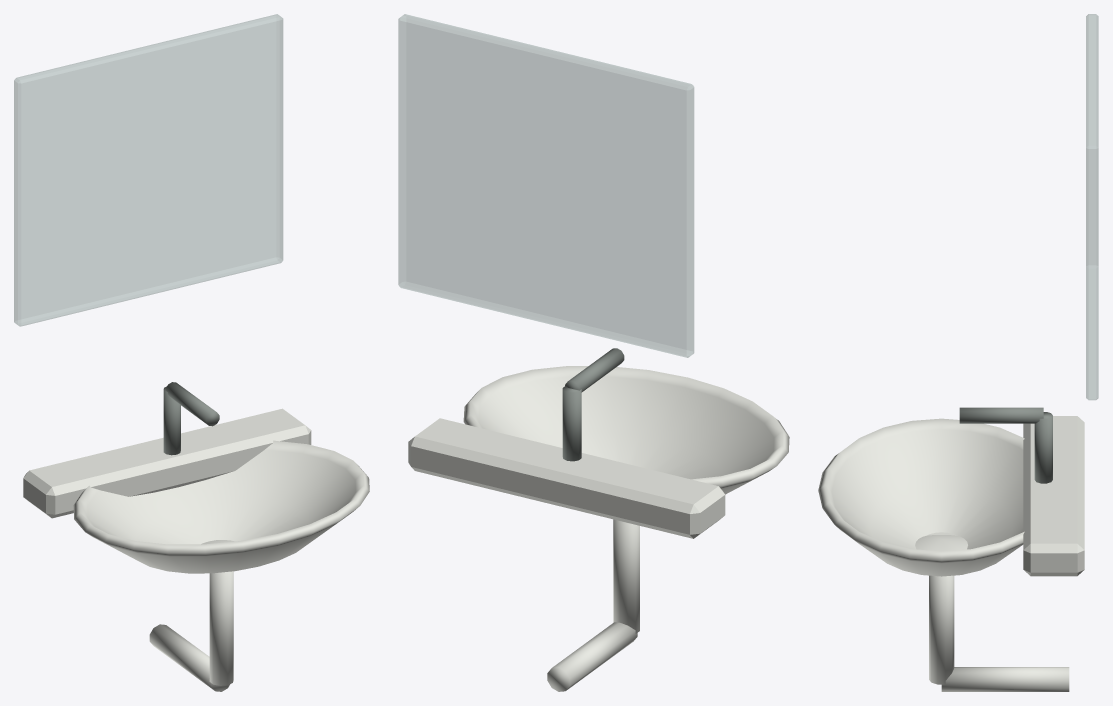
The model's file is sink.glb.
The picture shows the model from 3 angles, left to right: view 1: azimuth 30°, elevation 25°; view 2: azimuth 150°, elevation 25°; view 3: azimuth 270°, elevation 25°; orthographic projection. The views are drawn at different scales.
Parts seen in each view (by area): view 1: sink; view 2: sink; view 3: sink.
Boxes of the visible parts, <box> form: sink: <box>14,14,369,691</box>; sink: <box>398,14,789,691</box>; sink: <box>818,14,1098,691</box>.
Bounding box in the file's own units: 0.6383 × 1.32 × 0.549.
